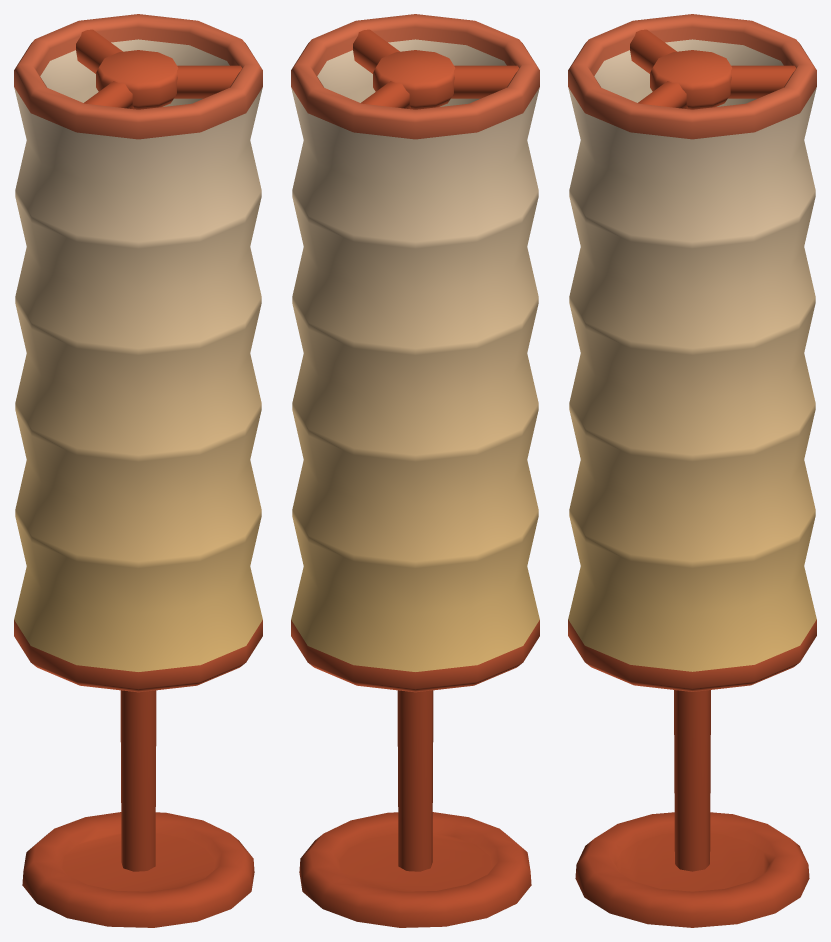
The model's file is Furniture_Lamp_03.fbx.
3 renders of one model, left to right at view 1: azimuth 30°, elevation 25°; view 2: azimuth 150°, elevation 25°; view 3: azimuth 270°, elevation 25°, orthographic.
Visible parts, largest first — view 1: Furniture_Lamp_03; view 2: Furniture_Lamp_03; view 3: Furniture_Lamp_03.
Part boxes in pixels (x1=…): Furniture_Lamp_03: x1=14, y1=14, x2=262, y2=927; Furniture_Lamp_03: x1=291, y1=14, x2=539, y2=927; Furniture_Lamp_03: x1=568, y1=14, x2=816, y2=927.
Size of the model in its own units: 91.98 by 333 by 91.98.
